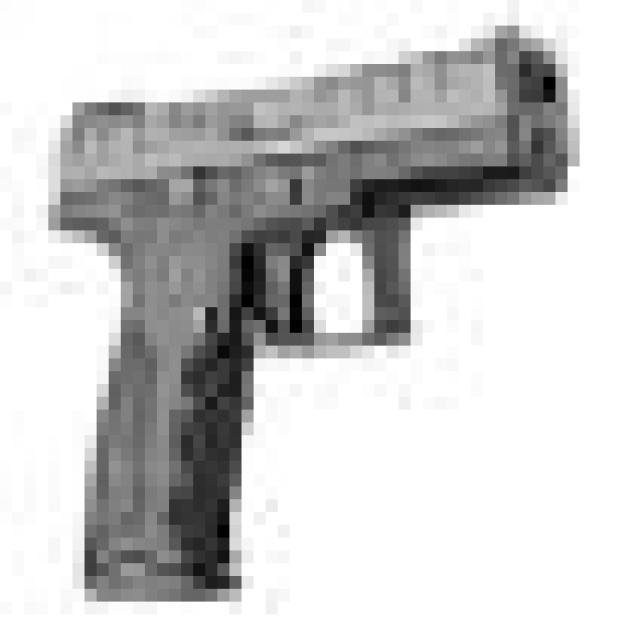pistol: (34, 23, 592, 608)
